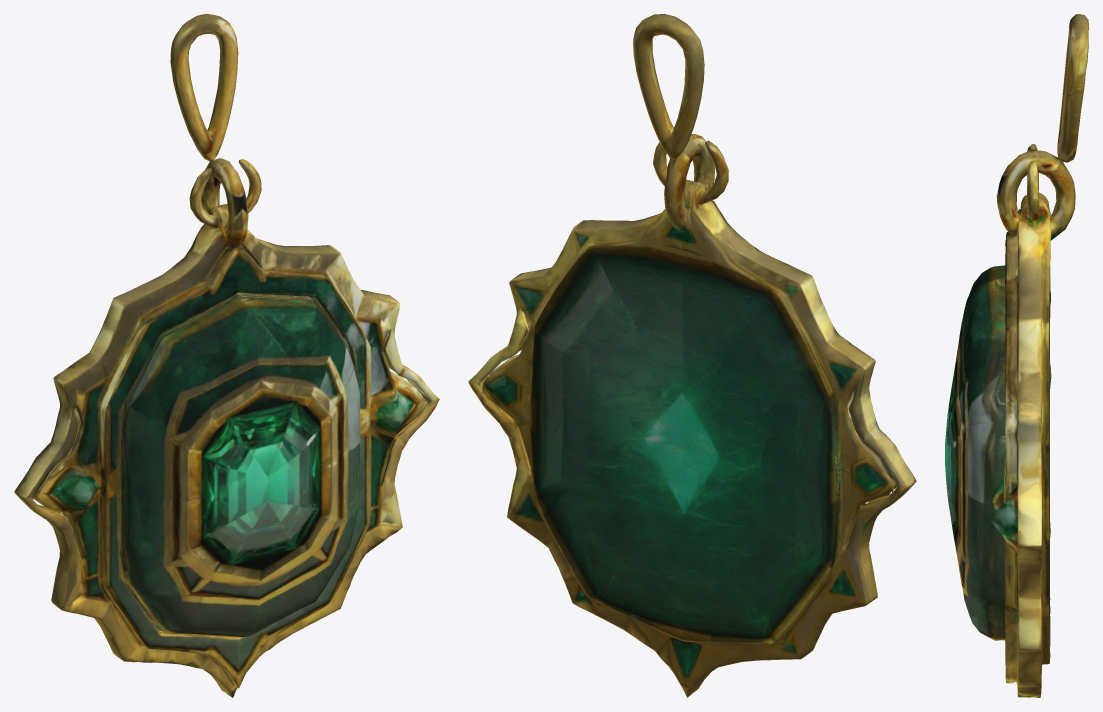
The model's file is low_poly_amulet.glb.
3 views of the same model, side by side, from view 1: azimuth 30°, elevation 25°; view 2: azimuth 150°, elevation 25°; view 3: azimuth 270°, elevation 25° (orthographic). The views are drawn at different scales.
Parts seen in each view (by area): view 1: Mesh1; view 2: Mesh1; view 3: Mesh1.
Part boxes in pixels (<box>): Mesh1: <box>14,14,439,697</box>; Mesh1: <box>468,14,916,697</box>; Mesh1: <box>945,14,1088,697</box>.
Bounding box in the file's own units: 1.32 × 2 × 0.3836.
1 material, 1 textured.
